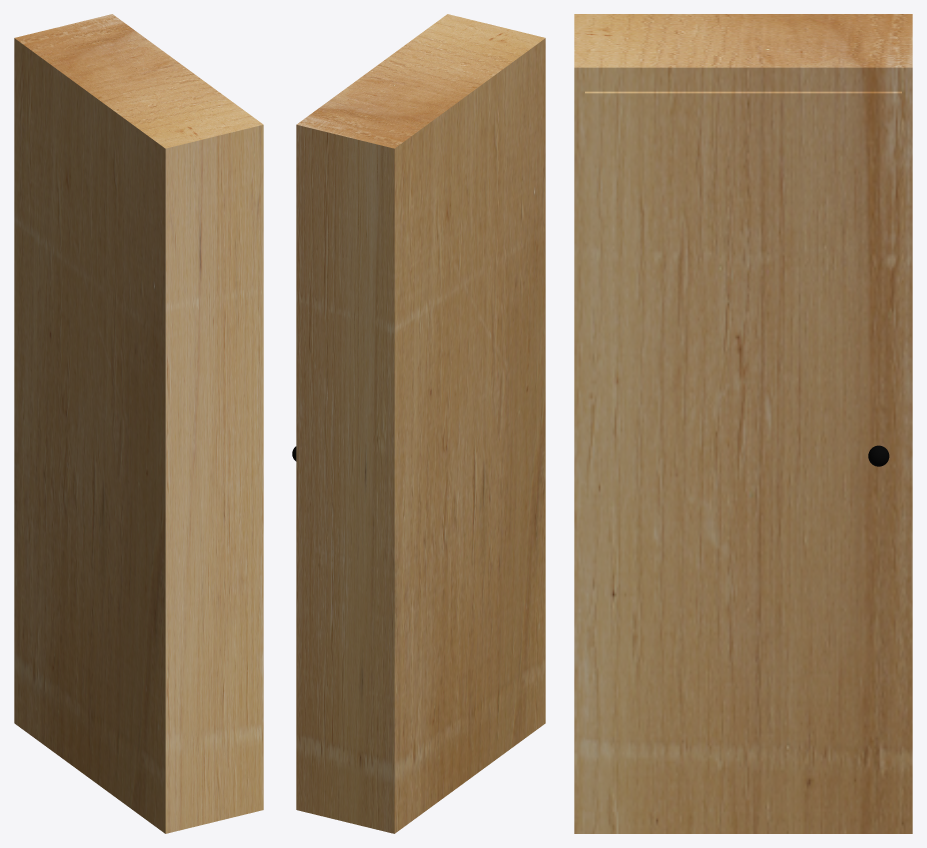
File: bezemkast.glb
3 renders of one model, left to right at view 1: azimuth 30°, elevation 25°; view 2: azimuth 150°, elevation 25°; view 3: azimuth 270°, elevation 25°, orthographic. The views are drawn at different scales.
Visible parts, largest first — view 1: Cube; view 2: Cube; view 3: Cube.
Boxes of the visible parts, bbox=[...] form: Cube: bbox=[14, 14, 263, 833]; Cube: bbox=[296, 14, 545, 833]; Cube: bbox=[574, 14, 912, 833].
Bounding box in the file's own units: 0.355 × 2 × 0.8.
2 materials, 1 textured.
